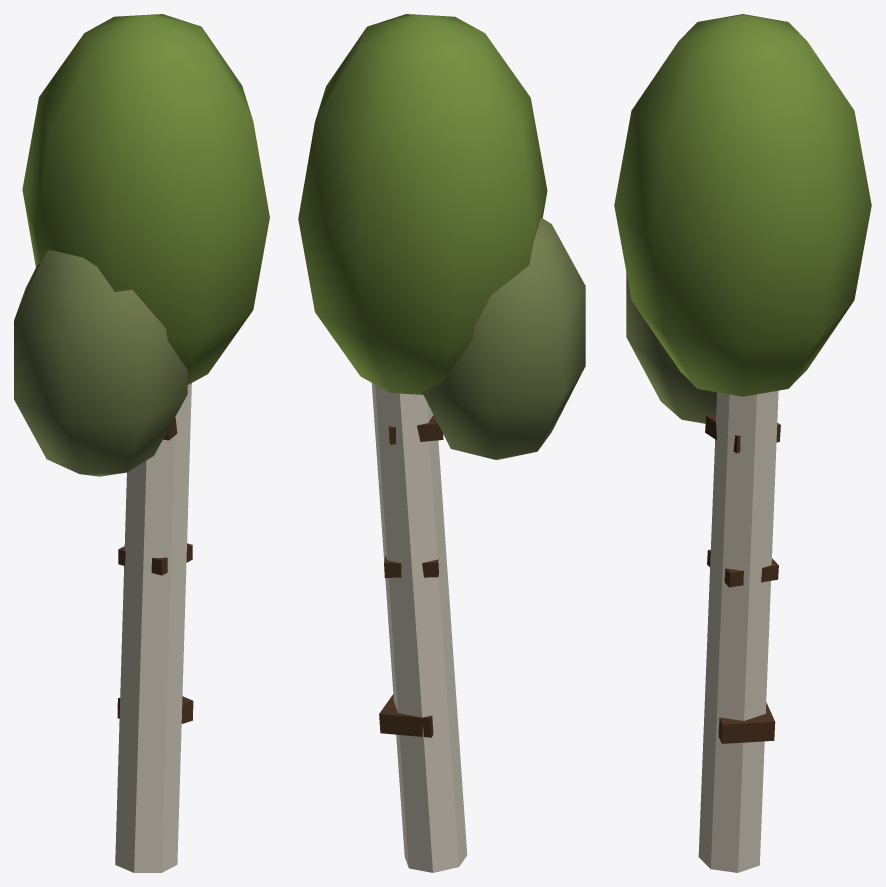
Rendered from birch.fbx.
3 views of the same model, side by side, from view 1: azimuth 30°, elevation 25°; view 2: azimuth 150°, elevation 25°; view 3: azimuth 270°, elevation 25° (orthographic).
Visible parts, largest first — view 1: Prop; view 2: Prop; view 3: Prop.
Boxes of the visible parts, left/top/right/bottom form: Prop: left=14, top=14, right=269, bottom=872; Prop: left=298, top=14, right=585, bottom=872; Prop: left=614, top=14, right=871, bottom=872.
Size of the model in its own units: 0.5332 by 0.48 by 1.74.
